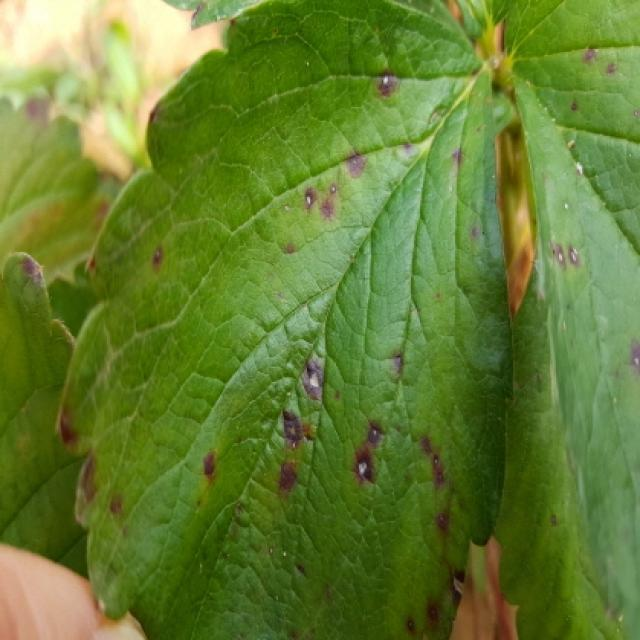Leaf Spot: (60, 0, 513, 638), (500, 0, 638, 638), (495, 259, 620, 638)
